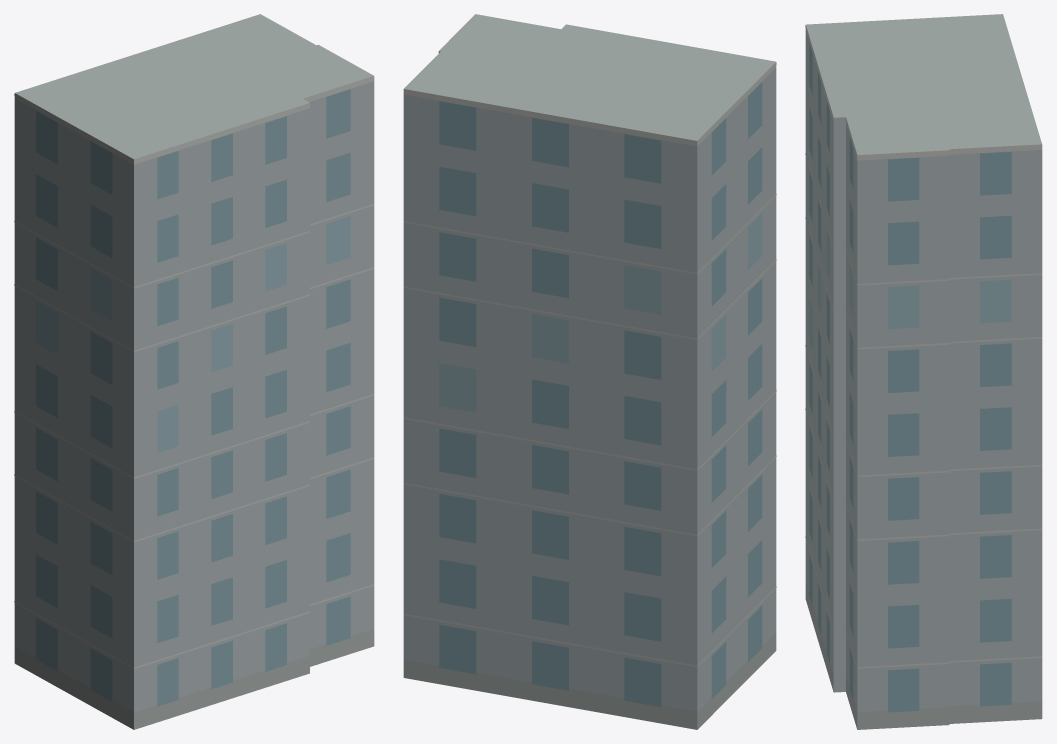
File: survey-upis-32653256.glb
3 views of the same model, side by side, from view 1: azimuth 30°, elevation 25°; view 2: azimuth 150°, elevation 25°; view 3: azimuth 270°, elevation 25° (orthographic). The views are drawn at different scales.
Parts seen in each view (by area): view 1: survey-upis-32653256.tmp; view 2: survey-upis-32653256.tmp; view 3: survey-upis-32653256.tmp.
Boxes of the visible parts, x1,y1,x2,y2 form: survey-upis-32653256.tmp: [14, 14, 374, 729]; survey-upis-32653256.tmp: [403, 14, 776, 729]; survey-upis-32653256.tmp: [805, 14, 1042, 729].
Bounding box in the file's own units: 13.62 × 25.8 × 9.65.
